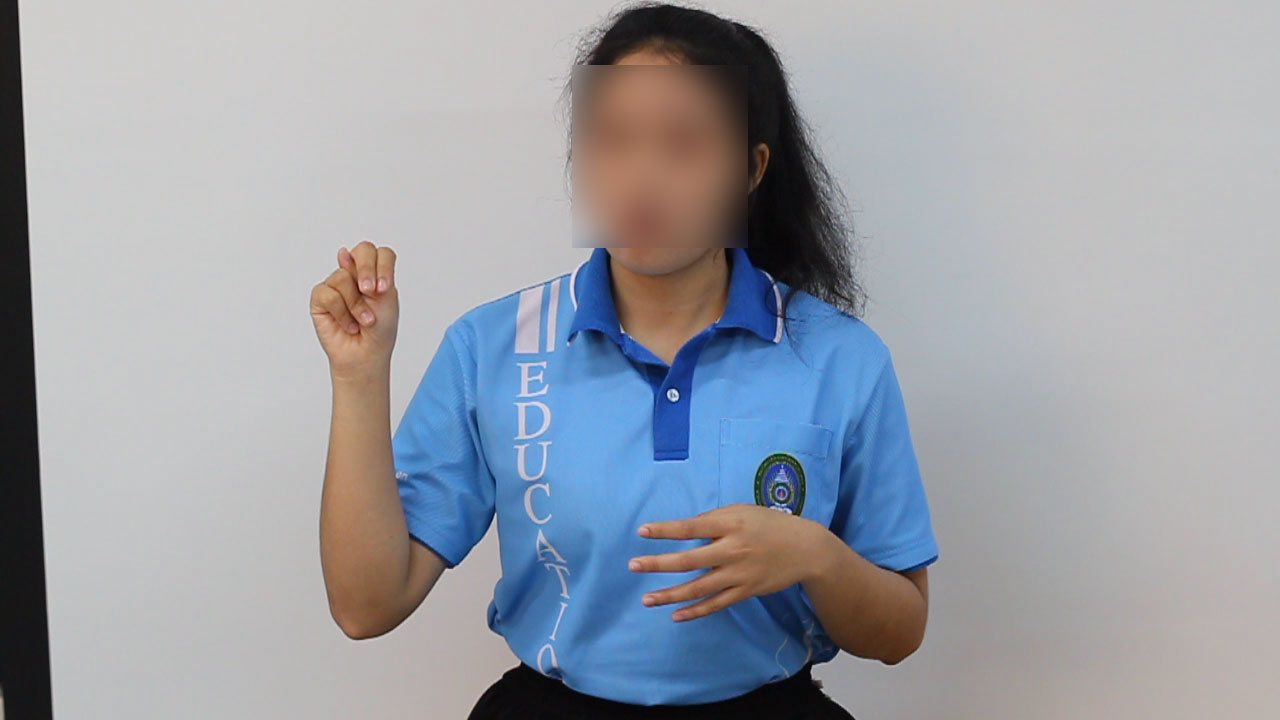nor: (302, 237, 416, 385)
